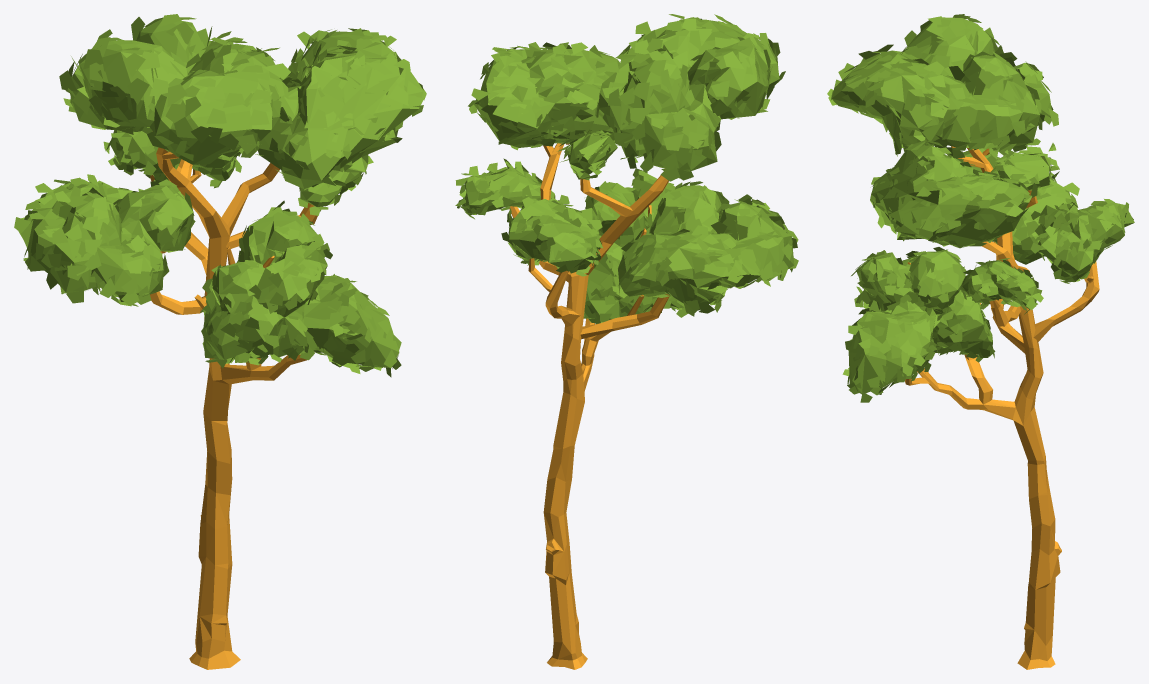
Rendered from SM_Tree_Japanese_Pagoda_A.fbx.
3 views of the same model, side by side, from view 1: azimuth 30°, elevation 25°; view 2: azimuth 150°, elevation 25°; view 3: azimuth 270°, elevation 25° (orthographic). The views are drawn at different scales.
Visible parts, largest first — view 1: SM_Tree_Japanese_Pagoda_A; view 2: SM_Tree_Japanese_Pagoda_A; view 3: SM_Tree_Japanese_Pagoda_A.
Part boxes in pixels (bbox=[...]): SM_Tree_Japanese_Pagoda_A: bbox=[14, 14, 426, 669]; SM_Tree_Japanese_Pagoda_A: bbox=[455, 14, 798, 669]; SM_Tree_Japanese_Pagoda_A: bbox=[827, 14, 1134, 669].
Bounding box in the file's own units: 8.6 × 15.76 × 7.51.
